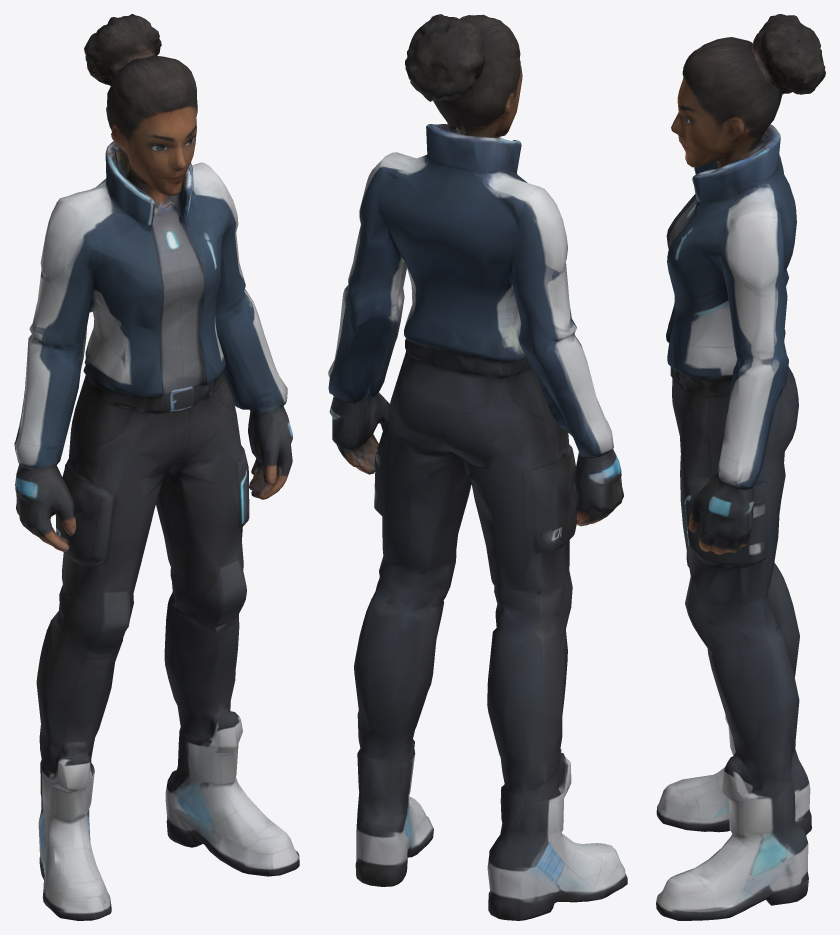
Rendered from IXR-female-meshy.glb.
3 renders of one model, left to right at view 1: azimuth 30°, elevation 25°; view 2: azimuth 150°, elevation 25°; view 3: azimuth 270°, elevation 25°, orthographic. The views are drawn at different scales.
Size of the model in its own units: 0.681 by 2 by 0.3651.
1 material, 1 textured.
